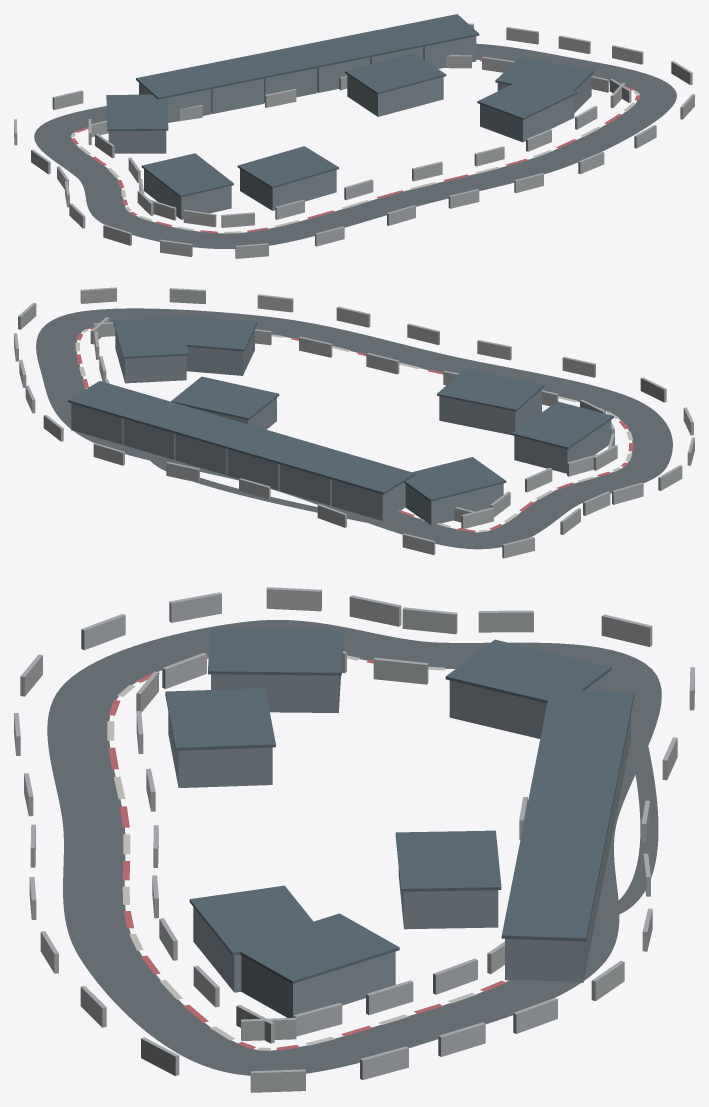
The picture shows the model from 3 angles, top to bottom: view 1: azimuth 30°, elevation 25°; view 2: azimuth 150°, elevation 25°; view 3: azimuth 270°, elevation 25°; orthographic projection. The views are drawn at different scales.
Parts seen in each view (by area): view 1: asphalt, grandstand_roof_0, grandstand_roof_3, grandstand_roof_4, grandstand_0, grandstand_roof_1, grandstand_roof_5, grandstand_2, grandstand_3, grandstand_roof_2, grandstand_4, pit_roof_0 (+30 smaller); view 2: asphalt, grandstand_roof_3, grandstand_roof_0, grandstand_roof_4, grandstand_roof_1, grandstand_roof_5, grandstand_3, grandstand_4, grandstand_roof_2, grandstand_5, pit_building_0, pit_roof_0 (+33 smaller); view 3: asphalt, grandstand_roof_1, grandstand_roof_4, grandstand_roof_3, grandstand_roof_0, grandstand_roof_5, grandstand_1, grandstand_roof_2, grandstand_3, pit_roof_5, grandstand_5, pit_roof_3 (+28 smaller).
Boxes of the visible parts, bbox=[...] form: asphalt: bbox=[34, 43, 676, 248]; grandstand_roof_0: bbox=[345, 52, 446, 94]; grandstand_roof_3: bbox=[237, 146, 338, 188]; grandstand_roof_4: bbox=[141, 153, 233, 197]; grandstand_0: bbox=[347, 74, 443, 116]; grandstand_roof_1: bbox=[495, 57, 593, 93]; grandstand_roof_5: bbox=[106, 94, 168, 130]; grandstand_2: bbox=[480, 96, 574, 142]; grandstand_3: bbox=[240, 169, 336, 210]; grandstand_roof_2: bbox=[477, 76, 576, 119]; grandstand_4: bbox=[144, 169, 231, 219]; pit_roof_0: bbox=[136, 67, 214, 99]; asphalt: bbox=[36, 308, 672, 549]; grandstand_roof_3: bbox=[437, 368, 544, 411]; grandstand_roof_0: bbox=[171, 376, 279, 420]; grandstand_roof_4: bbox=[511, 401, 613, 449]; grandstand_roof_1: bbox=[113, 317, 188, 358]; grandstand_roof_5: bbox=[404, 457, 506, 501]; grandstand_3: bbox=[439, 389, 541, 435]; grandstand_4: bbox=[514, 420, 611, 473]; grandstand_roof_2: bbox=[160, 315, 257, 351]; grandstand_5: bbox=[405, 483, 503, 525]; pit_building_0: bbox=[331, 479, 405, 520]; pit_roof_0: bbox=[328, 457, 415, 494]; asphalt: bbox=[47, 620, 661, 1075]; grandstand_roof_1: bbox=[232, 913, 399, 983]; grandstand_roof_4: bbox=[208, 629, 344, 675]; grandstand_roof_3: bbox=[165, 688, 275, 750]; grandstand_roof_0: bbox=[395, 830, 501, 891]; grandstand_roof_5: bbox=[445, 639, 611, 703]; grandstand_1: bbox=[241, 951, 395, 1017]; grandstand_roof_2: bbox=[189, 885, 325, 955]; grandstand_3: bbox=[168, 712, 272, 787]; pit_roof_5: bbox=[501, 895, 594, 941]; grandstand_5: bbox=[449, 673, 607, 738]; pit_roof_3: bbox=[517, 811, 610, 856].
Size of the model in its own units: 58.41 by 2.64 by 34.58.
